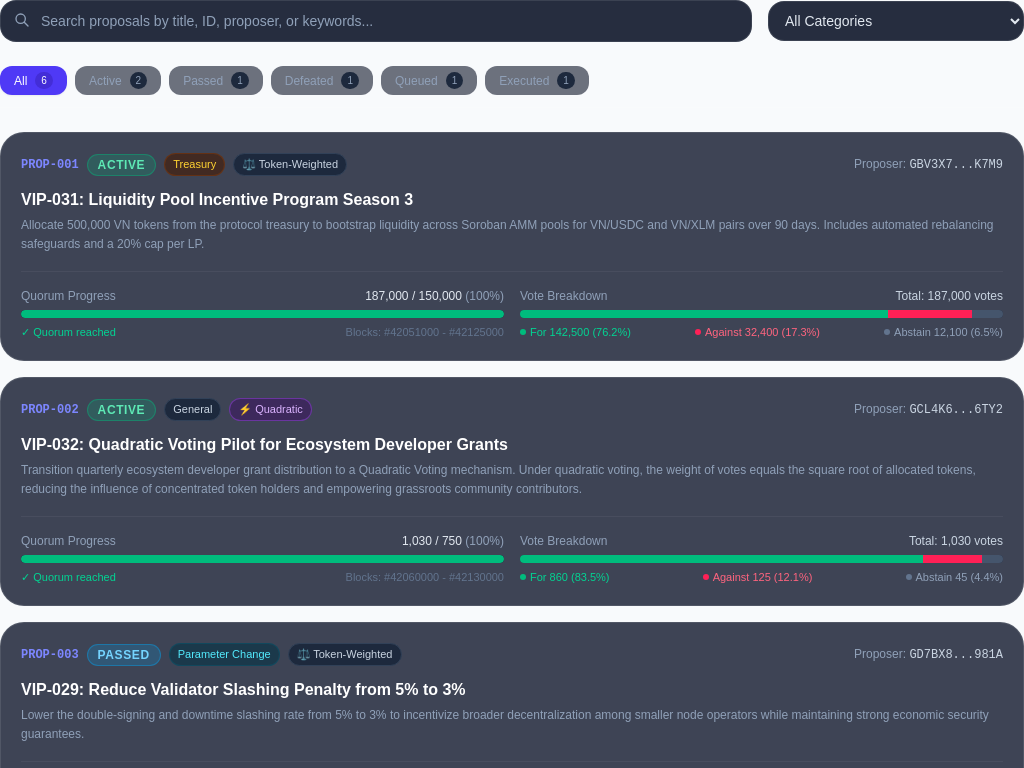
Scenario: ProposalList Component › filters proposals by search input query
In the search field: (376,21) [0, 0, 752, 42], type "Quadratic"
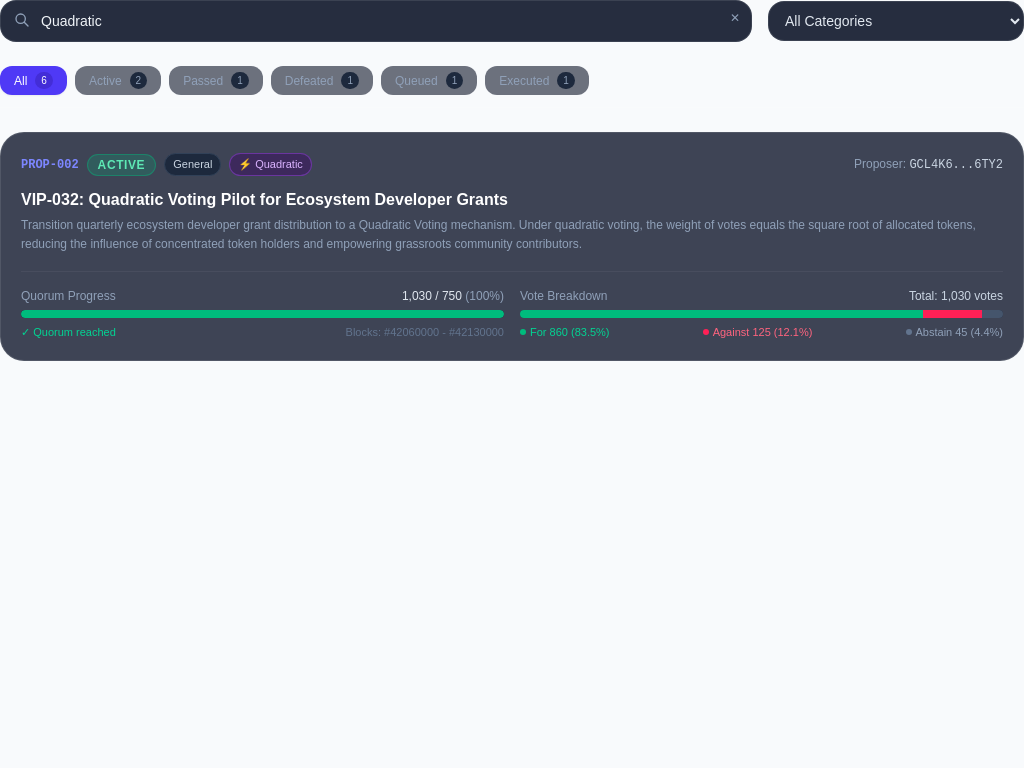
Expected: the heading "VIP-032: Quadratic Voting Pilot for Ecosystem Developer Grants" is shown, [21, 191, 508, 208]
Now the heading "VIP-031: Liquidity Pool Incentive Program Season 3" is gone
